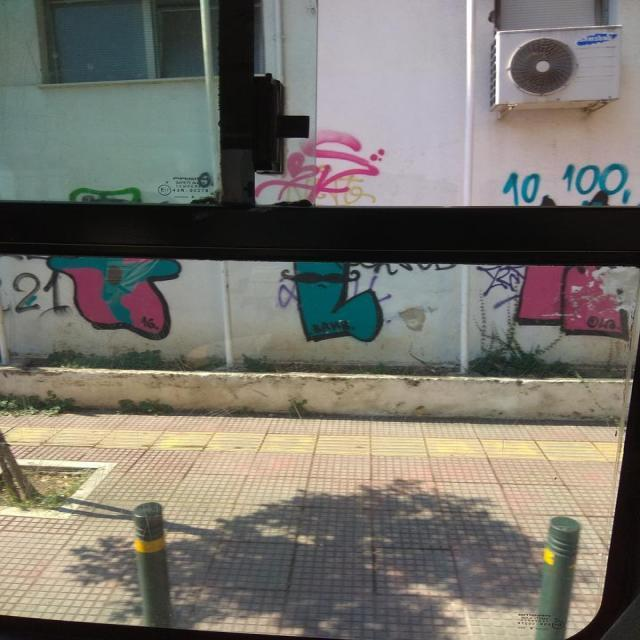nonspitting: (12, 185, 182, 342), (276, 259, 459, 344), (476, 264, 630, 342), (256, 130, 390, 206), (564, 163, 632, 204), (501, 171, 539, 205)
